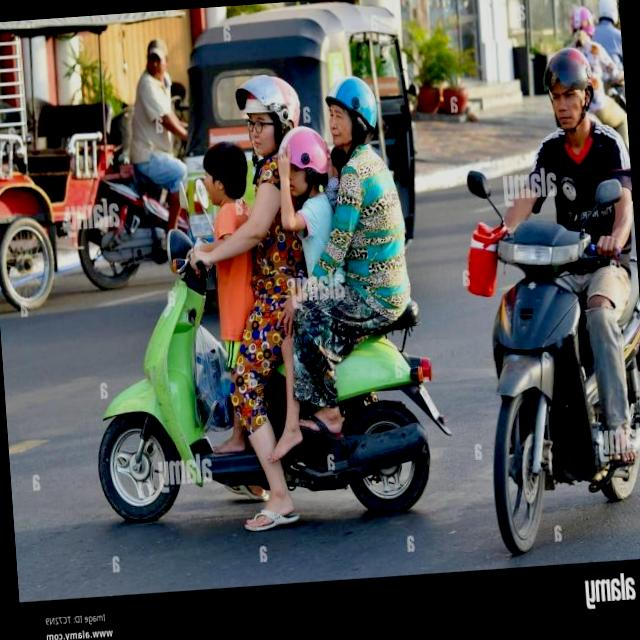motorcycle: (76, 208, 460, 535), (445, 158, 640, 557)
person: (320, 70, 426, 381), (500, 38, 636, 278), (223, 70, 324, 344), (180, 134, 270, 370), (267, 118, 355, 350)
rider_region: (58, 67, 458, 538), (462, 25, 640, 548)
